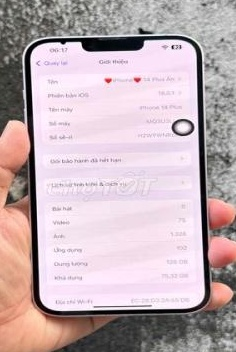screen_defect: (54, 35, 83, 56)
